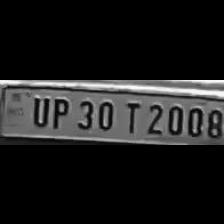0: (94, 96, 116, 130), (164, 101, 184, 135), (184, 102, 204, 136)
2: (142, 100, 164, 134)
3: (72, 95, 94, 129)
8: (204, 104, 222, 138)
P: (47, 94, 69, 128)
T: (120, 97, 142, 132)
U: (26, 93, 48, 127)
